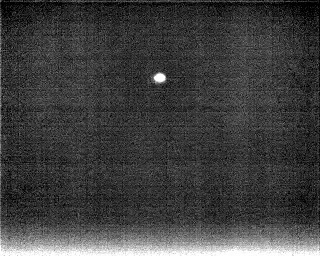AIRPLANE: (152, 69, 169, 86)
